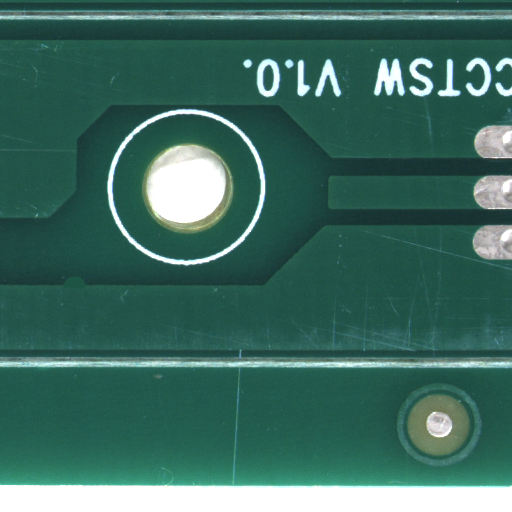Spur: (72, 280, 97, 290)
